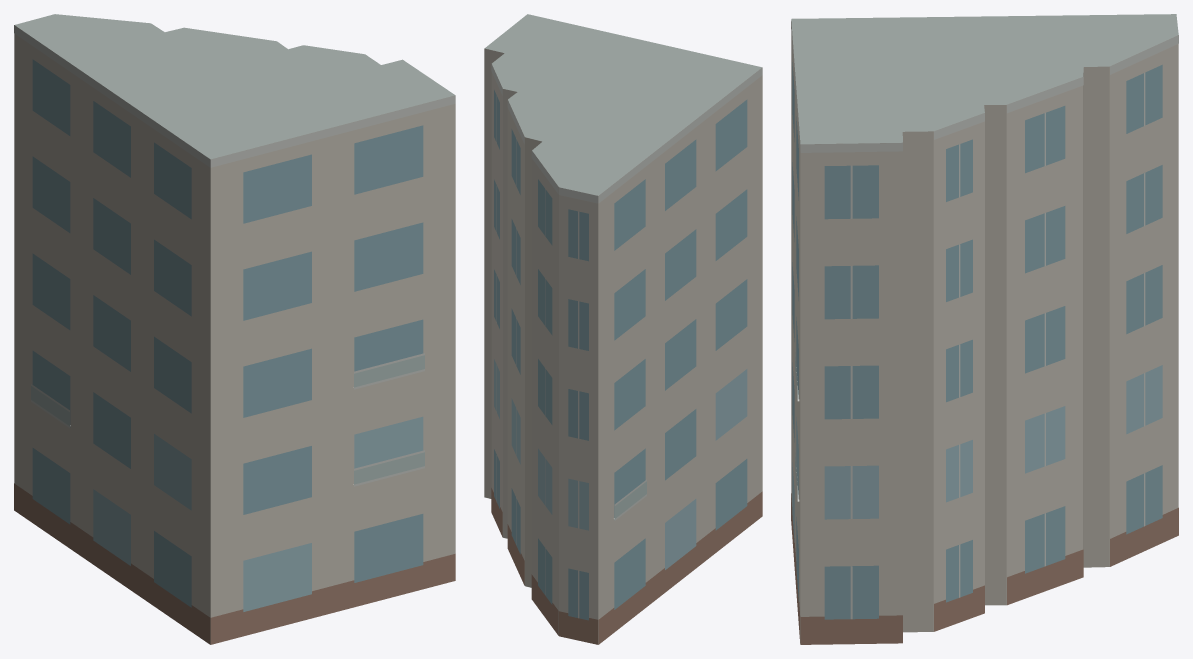
The model's file is survey-upis-32994778.glb.
The picture shows the model from 3 angles, left to right: view 1: azimuth 30°, elevation 25°; view 2: azimuth 150°, elevation 25°; view 3: azimuth 270°, elevation 25°; orthographic projection. The views are drawn at different scales.
Visible parts, largest first — view 1: survey-upis-32994778.tmp; view 2: survey-upis-32994778.tmp; view 3: survey-upis-32994778.tmp.
Part boxes in pixels (bbox=[...]): survey-upis-32994778.tmp: bbox=[14, 14, 455, 644]; survey-upis-32994778.tmp: bbox=[484, 14, 762, 644]; survey-upis-32994778.tmp: bbox=[791, 14, 1178, 644].
Size of the model in its own units: 7.89 by 14.1 by 9.9.
